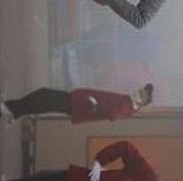person: (16, 139, 172, 181), (6, 81, 154, 125), (93, 1, 167, 32)
